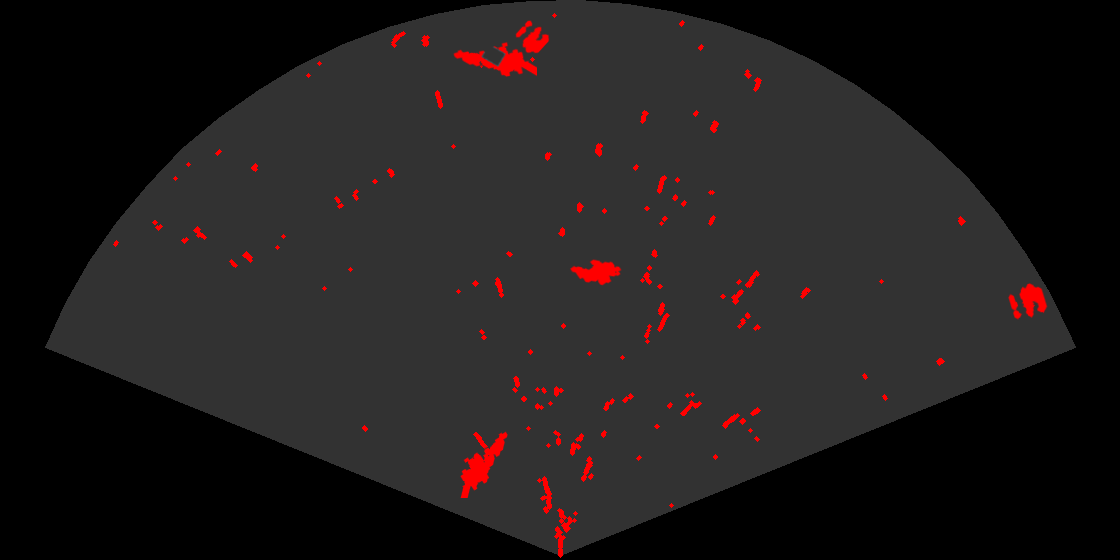AUV: (569, 258, 623, 287)
ball: (1007, 282, 1049, 321), (514, 19, 551, 55)
frogman: (459, 430, 509, 498), (452, 40, 537, 79)
